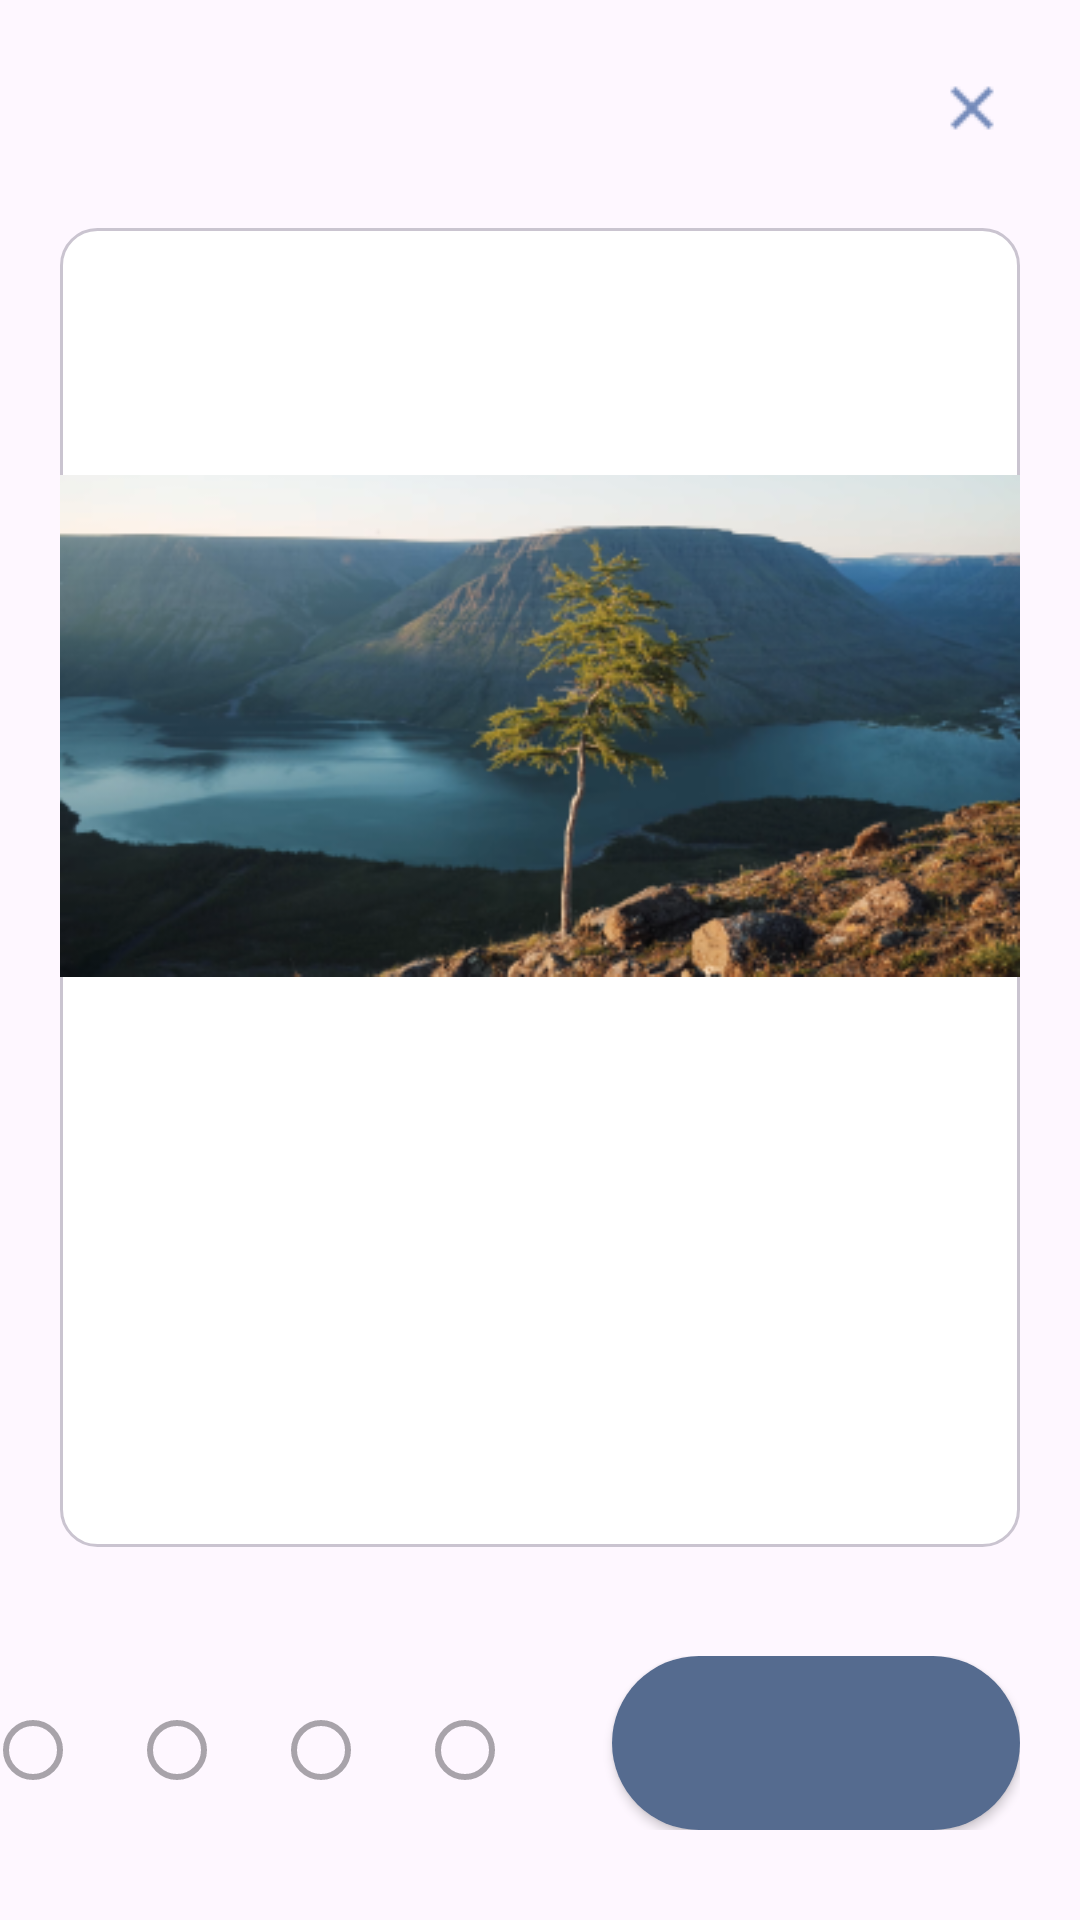

Icons on this 1080*1920 Android screen, each with the point to tap as [x,y]:
init close: [972,108]
